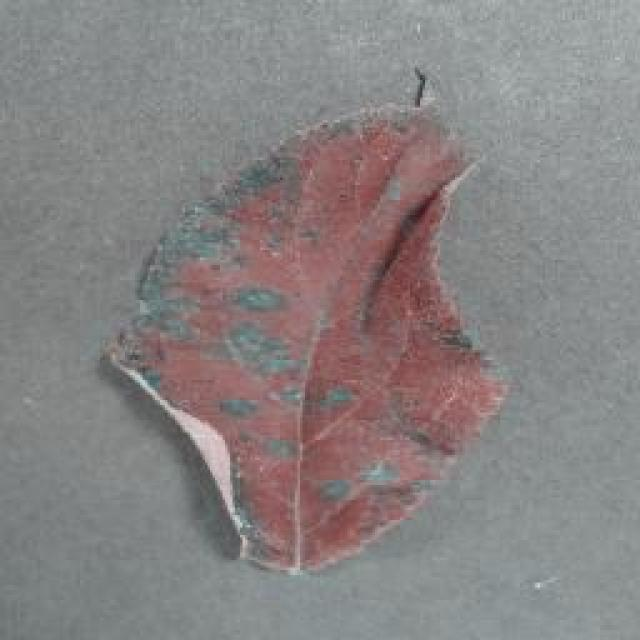apple scab disease: (100, 67, 510, 575)
